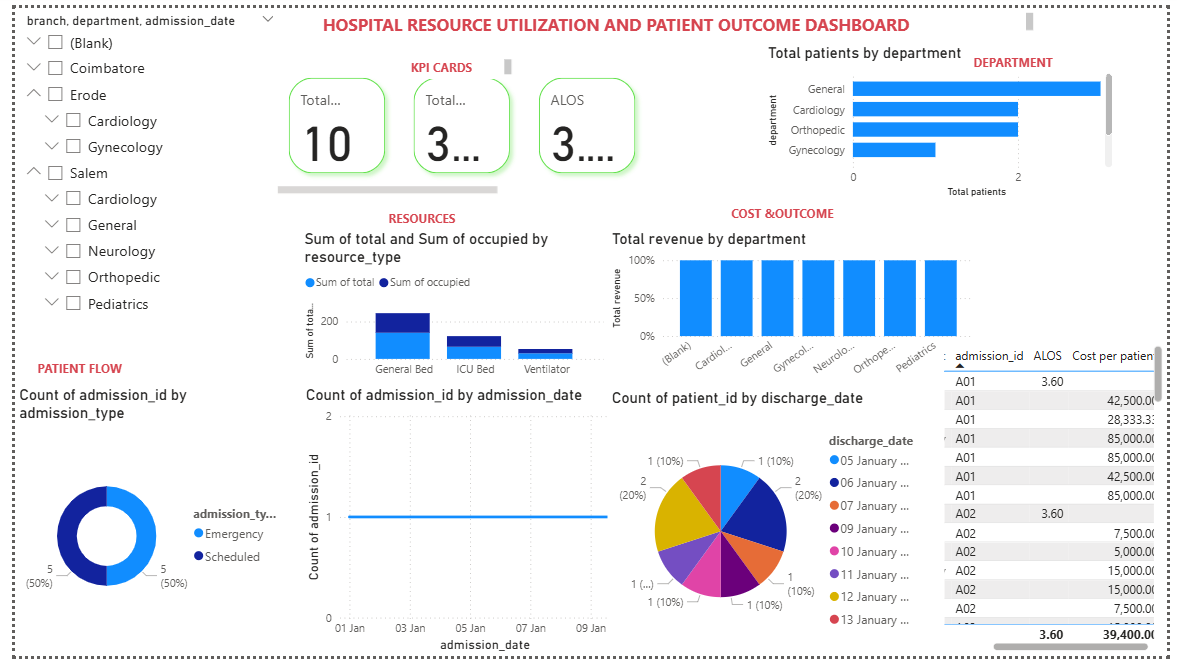

Layout of this report page (visuals, bound fields, positions):
{"tool":"powerbi","page":{"name":"Page 1","canvas":[1280,720],"ordinal":0},"visuals":[{"type":"textbox","box":[336.4,0,799.4,32.1],"z":0},{"type":"slicer","fields":{"Values":["PATIENT DATAS.branch","PATIENT DATAS.department","ADMISSION DATA.admission_date"]},"box":[0,0,299.9,352.5],"z":1},{"type":"cardVisual","fields":{"Data":["ADMISSION DATA.Total patients","ADMISSION DATA.Total revenue","ADMISSION DATA.ALOS","ADMISSION DATA.Bed occupancy rate","ADMISSION DATA.Emergency%"]},"box":[286.2,60.4,420.6,153.8],"z":2},{"type":"lineChart","fields":{"Category":["ADMISSION DATA.admission_date"],"Y":["CountNonNull(ADMISSION DATA.admission_id)"]},"box":[317.6,419.6,376.5,300],"z":3},{"type":"donutChart","fields":{"Category":["ADMISSION DATA.admission_type"],"Y":["CountNonNull(ADMISSION DATA.admission_id)"]},"box":[0,419.6,300,294.1],"z":4},{"type":"barChart","fields":{"Category":["PATIENT DATAS.department"],"Y":["ADMISSION DATA.Total patients"]},"box":[831.4,39.2,392.2,174.5],"z":5},{"type":"columnChart","fields":{"Category":["RESOURCES DATA.resource_type"],"Y":["Sum(RESOURCES DATA.total)","Sum(RESOURCES DATA.occupied)"]},"box":[316.9,247.5,342.4,172.9],"z":6},{"type":"hundredPercentStackedColumnChart","fields":{"Category":["PATIENT DATAS.department"],"Y":["ADMISSION DATA.Total revenue"]},"box":[658.8,247.1,411.8,172.5],"z":7},{"type":"pieChart","fields":{"Category":["ADMISSION DATA.discharge_date"],"Y":["CountNonNull(ADMISSION DATA.patient_id)"]},"box":[658.8,423.5,354.9,296.1],"z":8},{"type":"tableEx","fields":{"Values":["PATIENT DATAS.department","BILLING DATA.admission_id","ADMISSION DATA.ALOS","ADMISSION DATA.Cost per patient"]},"box":[1027.5,370.6,252.9,349],"z":9},{"type":"textbox","box":[435.3,51,121.6,27.5],"z":10},{"type":"textbox","box":[19.6,384.3,200,35.3],"z":11},{"type":"textbox","box":[658.8,213.7,354.9,33.3],"z":12},{"type":"textbox","box":[1060.8,45.1,152.9,31.4],"z":13},{"type":"textbox","box":[410.2,218.6,154.2,28.8],"z":14}]}

Visuals, with their boxes on the page's 1280x720 design canvas (x1, y1, x2, y2). These are canvas units, not pixel positions in the 1177x665 screenshot, which may show the page scaled, cropped or inside an application window:
textbox: 336:0:1136:32
slicer - PATIENT DATAS.branch x PATIENT DATAS.department: 0:0:300:352
cardVisual - ADMISSION DATA.Total patients x ADMISSION DATA.Total revenue: 286:60:707:214
lineChart - ADMISSION DATA.admission_date x CountNonNull(ADMISSION DATA.admission_id): 318:420:694:720
donutChart - ADMISSION DATA.admission_type x CountNonNull(ADMISSION DATA.admission_id): 0:420:300:714
barChart - PATIENT DATAS.department x ADMISSION DATA.Total patients: 831:39:1224:214
columnChart - RESOURCES DATA.resource_type x Sum(RESOURCES DATA.total): 317:248:659:420
hundredPercentStackedColumnChart - PATIENT DATAS.department x ADMISSION DATA.Total revenue: 659:247:1071:420
pieChart - ADMISSION DATA.discharge_date x CountNonNull(ADMISSION DATA.patient_id): 659:424:1014:720
tableEx - PATIENT DATAS.department x BILLING DATA.admission_id: 1028:371:1280:720
textbox: 435:51:557:78
textbox: 20:384:220:420
textbox: 659:214:1014:247
textbox: 1061:45:1214:76
textbox: 410:219:564:247
